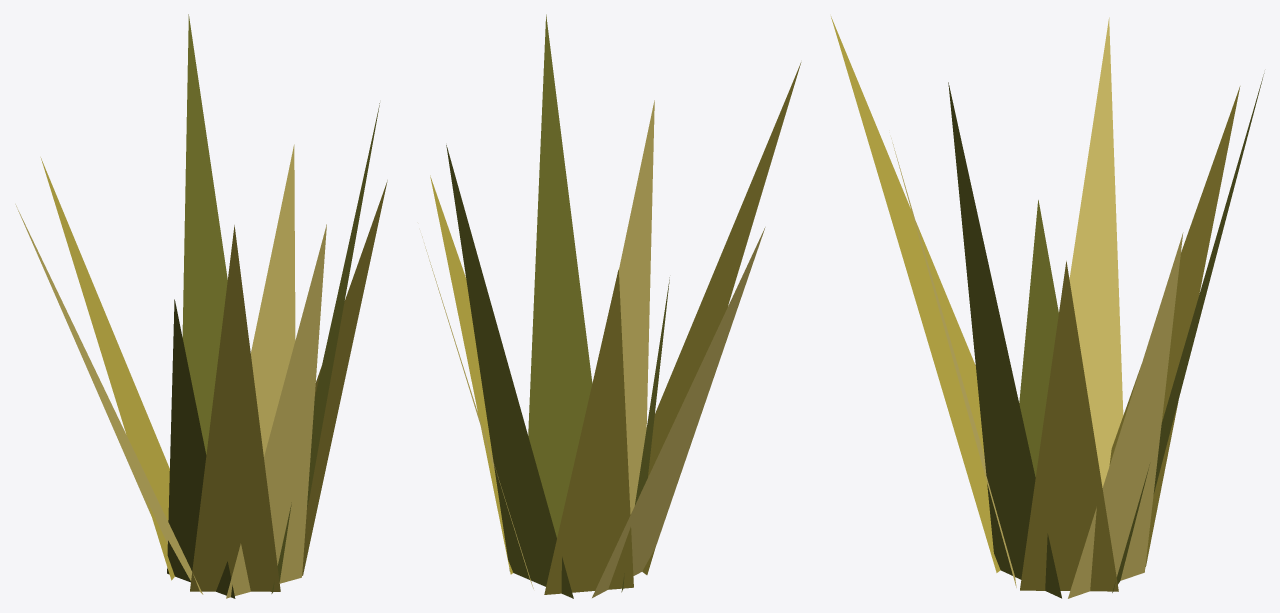
File: grass_tuft_2.glb
The picture shows the model from 3 angles, left to right: view 1: azimuth 30°, elevation 25°; view 2: azimuth 150°, elevation 25°; view 3: azimuth 270°, elevation 25°; orthographic projection. The views are drawn at different scales.
Parts seen in each view (by area): view 1: grass_tuft_2; view 2: grass_tuft_2; view 3: grass_tuft_2.
Part boxes in pixels (x1,y1,x2,y2): grass_tuft_2: [15, 14, 387, 598]; grass_tuft_2: [422, 14, 801, 598]; grass_tuft_2: [831, 16, 1264, 598].
Size of the model in its own units: 0.6293 by 0.832 by 0.6152.
